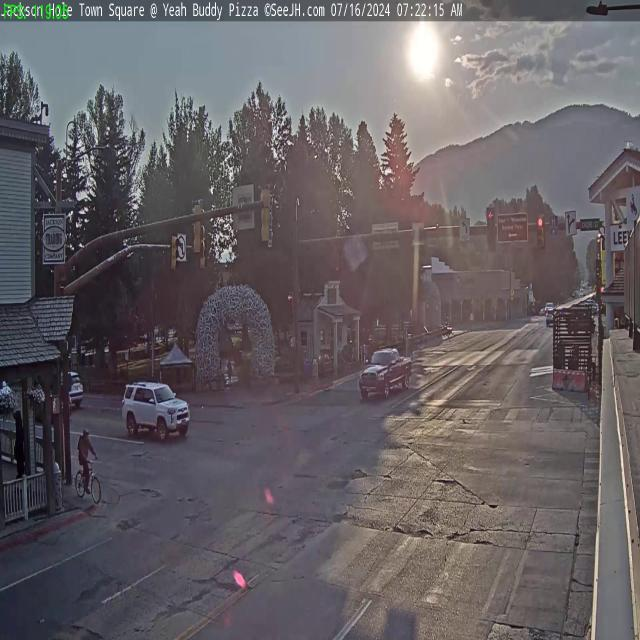bike: (72, 470, 105, 510)
person: (78, 428, 93, 493)
pickup: (364, 340, 414, 402)
suv: (122, 377, 190, 444), (62, 370, 84, 411)
traffic light: (260, 185, 273, 245), (190, 199, 203, 254), (486, 207, 497, 252), (170, 233, 179, 272), (536, 215, 544, 248)
